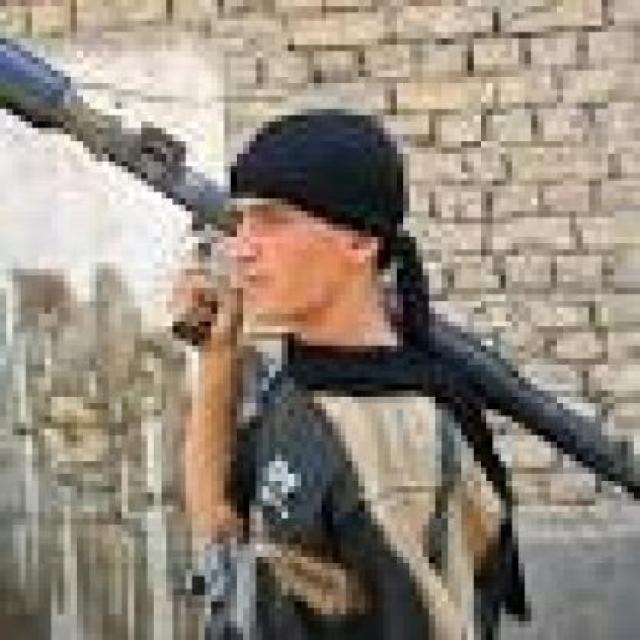weapon: (9, 29, 640, 510)
